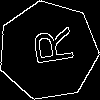R: (23, 25, 74, 69)
